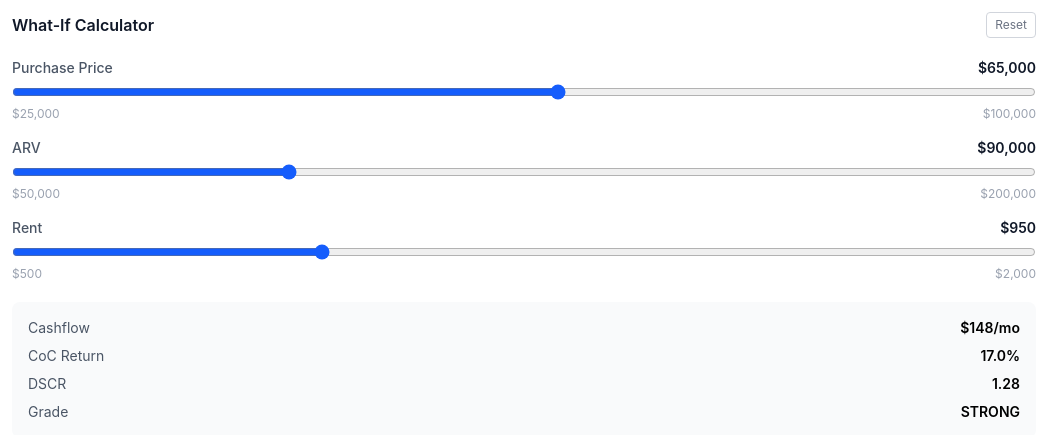
Test case: WhatIfSliders › displays updated cashflow after API response
Set the slider labelled "Purchase Price" to "70000": (625, 92) [12, 84, 1036, 100]
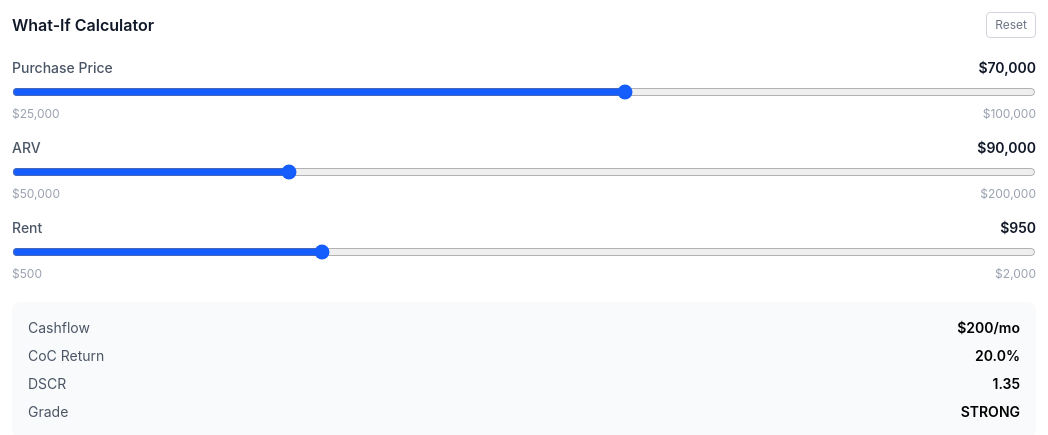
Result: the text "$200/mo" is shown at [957, 319, 1020, 336]
